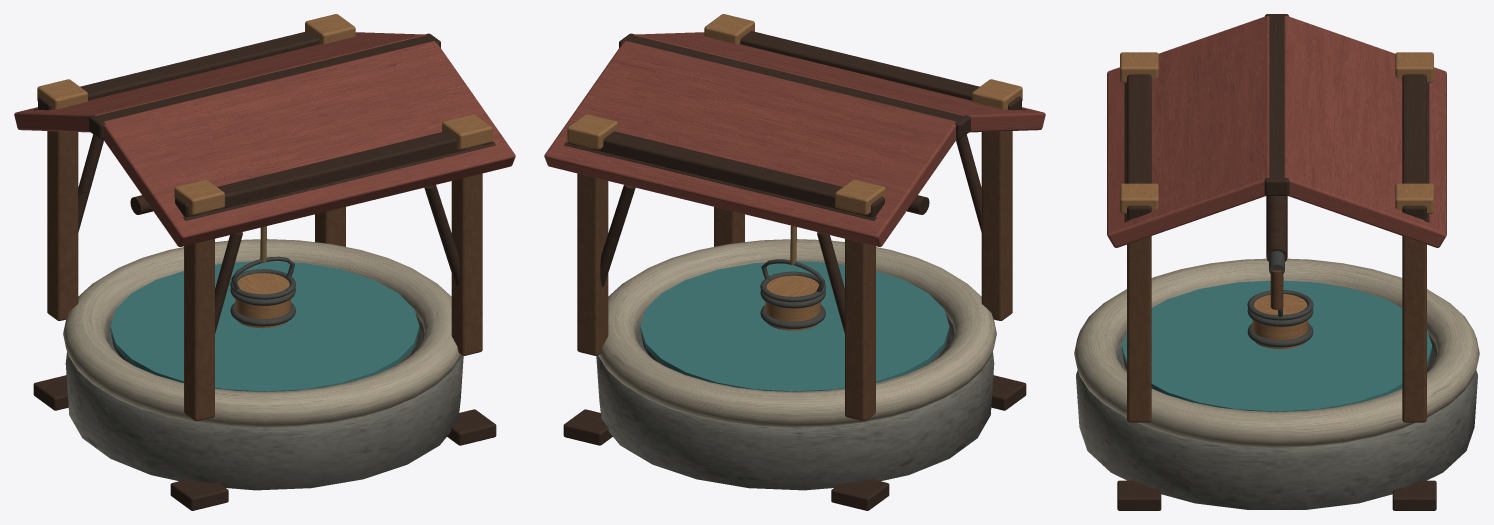
File: town_well.glb
3 views of the same model, side by side, from view 1: azimuth 30°, elevation 25°; view 2: azimuth 150°, elevation 25°; view 3: azimuth 270°, elevation 25° (orthographic).
Parts seen in each view (by area): view 1: town_well; view 2: town_well; view 3: town_well.
Part boxes in pixels (left/top/right/bottom): town_well: left=14, top=14, right=515, bottom=510; town_well: left=544, top=14, right=1045, bottom=510; town_well: left=1074, top=14, right=1479, bottom=510.
Bounding box in the file's own units: 2.8 × 2.6 × 2.8.
Materials: 1 (1 with a texture image).
